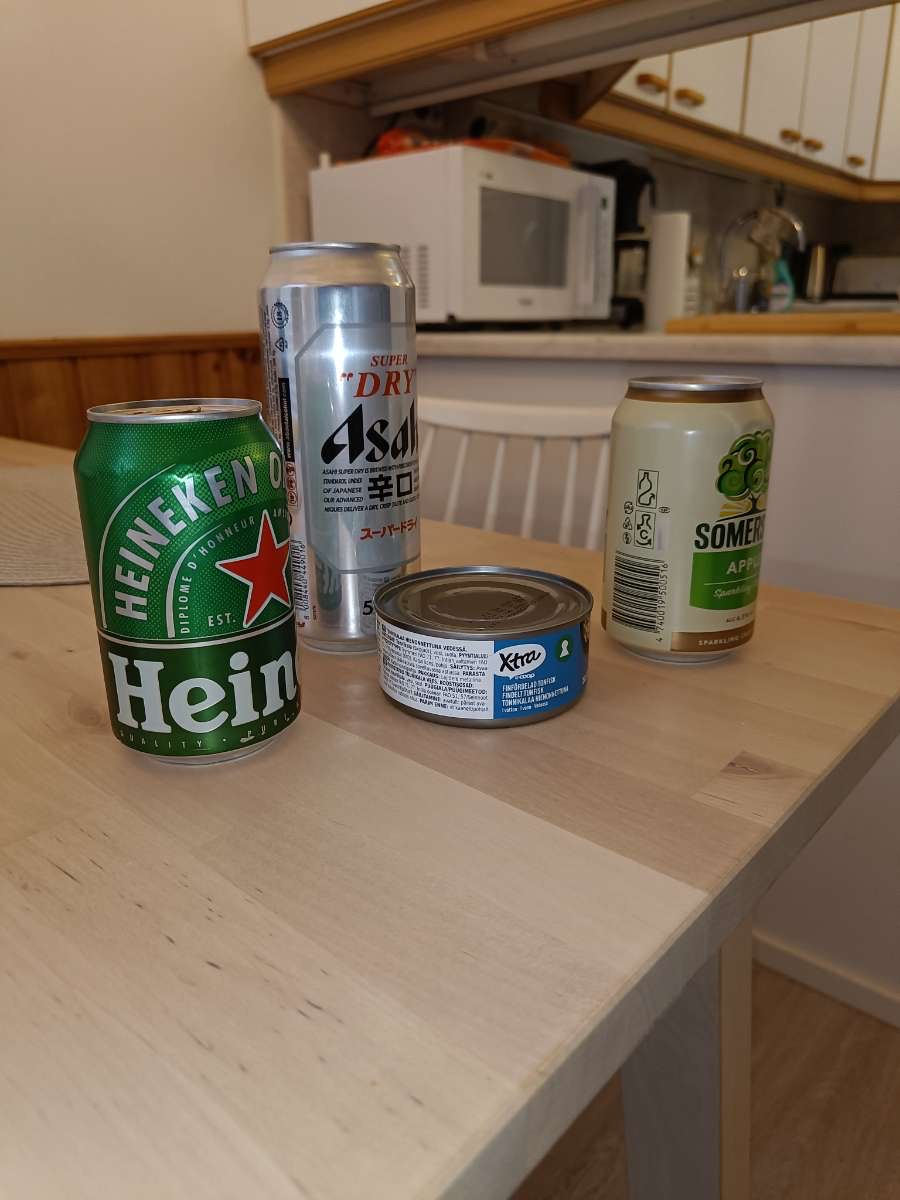Konservburk: (355, 561, 608, 729)
Pantburk: (55, 387, 322, 774), (233, 231, 456, 655), (595, 364, 778, 662)
